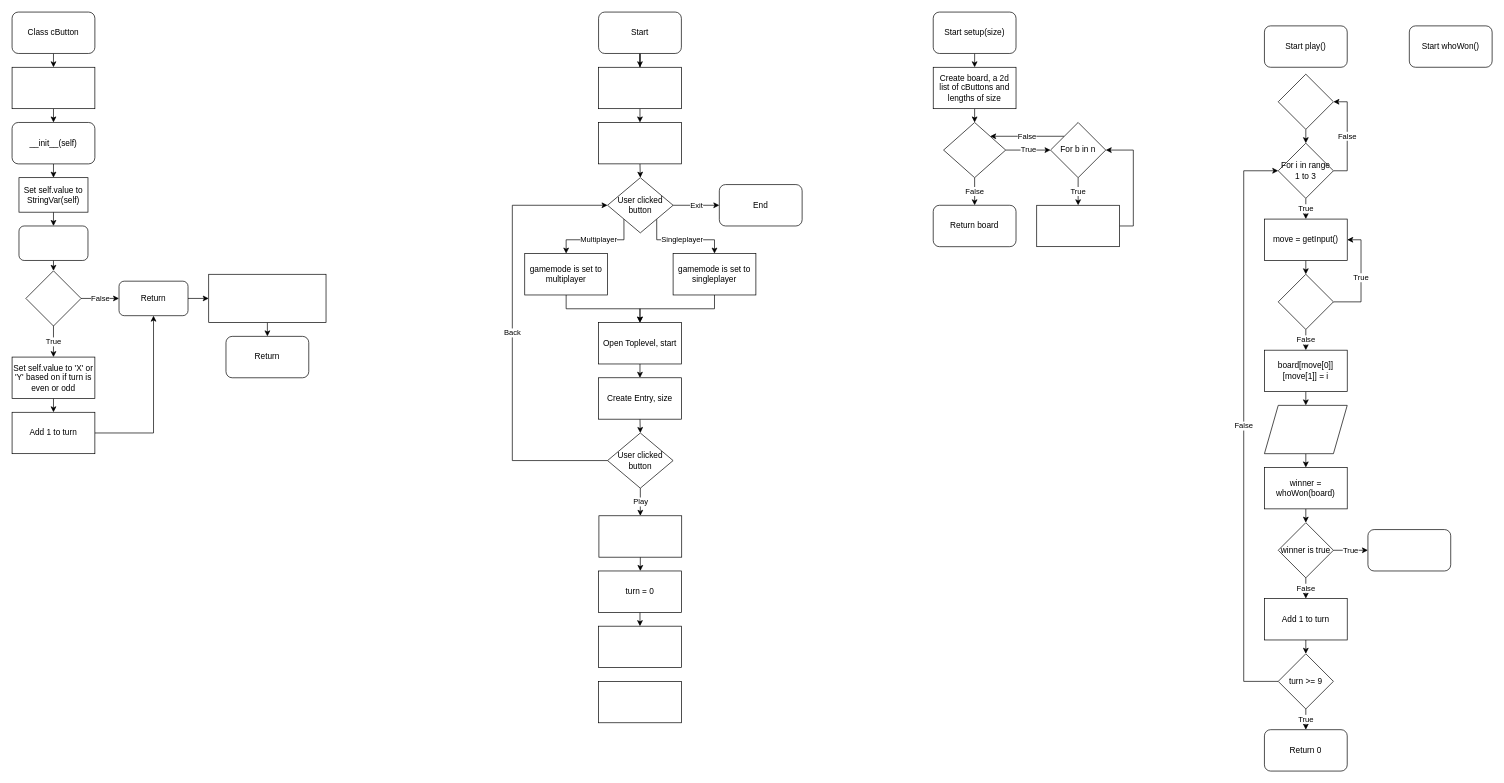
Image size: 1504x783. Some labels were removed from this diagram. Each missing label, with the centre of its shape:
A customized tkinter Button: the point at 53,88
Create cButton in game: the point at 1078,226
Create tkinter widgets and window, root: the point at 639,88
For n in board: the point at 974,150
move is not vaild: the point at 1305,301
Open Toplevel, game: the point at 640,536
play(gamemode): the point at 639,702
Print drawBoard(board): the point at 1305,429
Return winner: the point at 1409,550
root.mainloop(): the point at 639,143
self.clicked(): the point at 53,242
self.value is empty: the point at 53,298
Set board to setup(size.get()): the point at 639,646
Set self.button to Button(textvariable=self.value, command=self.clicked): the point at 267,298
While true: the point at 1305,101
